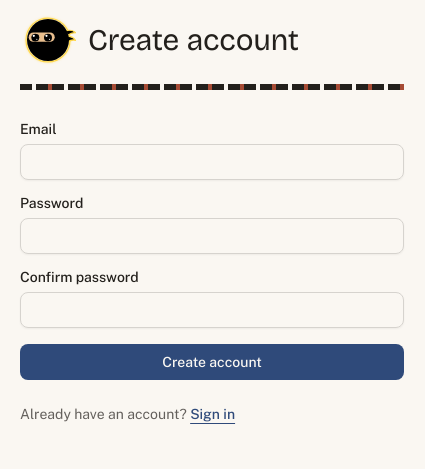
Scenario: AuthForm › blocks signup when the confirmation does not match
Type "shopper@example.com" into the field labelled "Email" at (212, 162), box [20,144,404,180]
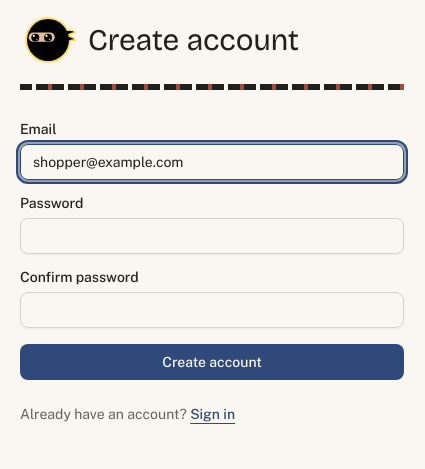
Type "password123" into the password field labelled "Password" at (212, 236), box [20,218,404,254]
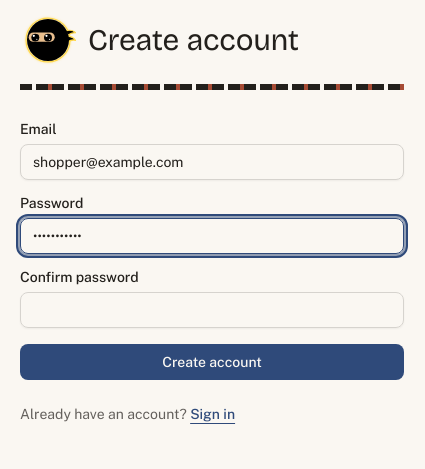
Type "password124" into the password field labelled "Confirm password" at (212, 310), box [20,292,404,328]
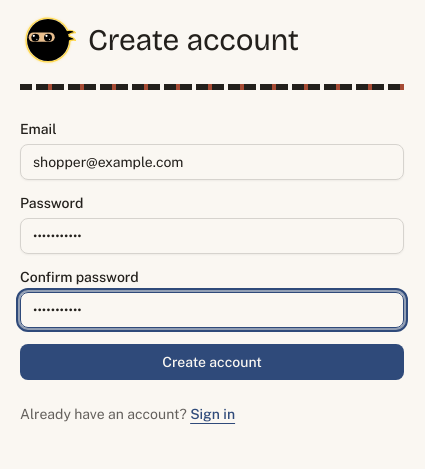
Click the button "Create account" at (212, 362), box [20,344,404,380]
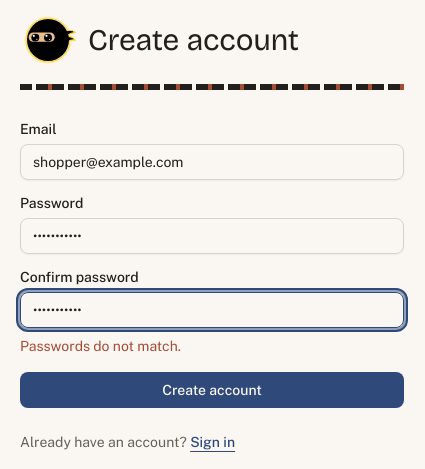
Check: the text "Passwords do not match." is shown, box [20,338,181,354]
